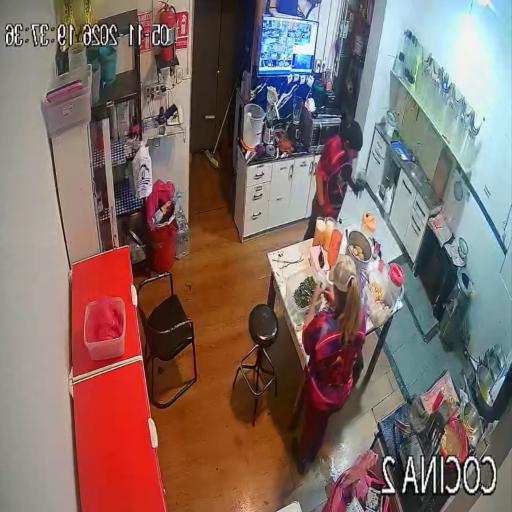Envase Ketchup: (433, 389, 446, 411)
Envase Llajua: (446, 395, 453, 406)
Jarra1: (387, 263, 404, 300)
Jarra2: (358, 211, 376, 244)
Microondas: (300, 110, 342, 150)
Persona1: (304, 121, 365, 239)
Persona2: (294, 256, 365, 472)
Tapa de olla: (458, 237, 469, 262)
Taper2: (285, 265, 320, 326)
Taper4: (363, 270, 396, 326)
olla: (346, 230, 373, 277)
